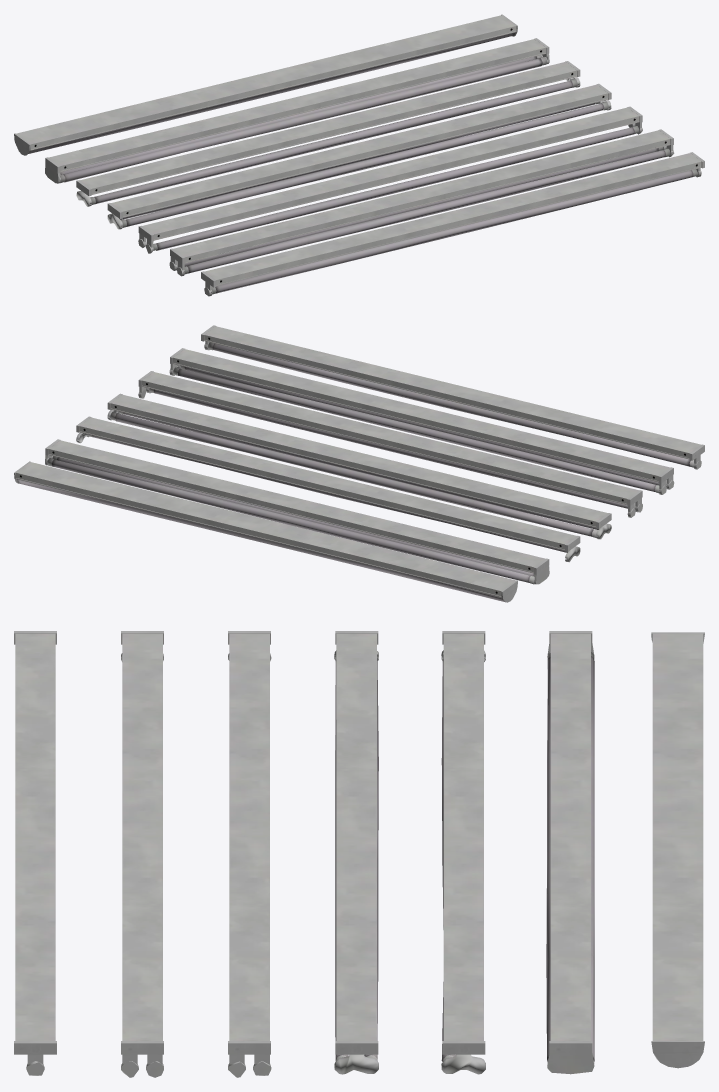
File: mounted_fluorescent_lights.glb
3 renders of one model, top to bottom at view 1: azimuth 30°, elevation 25°; view 2: azimuth 150°, elevation 25°; view 3: azimuth 270°, elevation 25°, orthographic. The views are drawn at different scales.
Parts seen in each view (by area): view 1: mounted_fluorescent_lights_b, mounted_fluorescent_lights_f, mounted_fluorescent_lights_d, mounted_fluorescent_lights_e, mounted_fluorescent_lights_c, mounted_fluorescent_lights_a, mounted_fluorescent_lights_g; view 2: mounted_fluorescent_lights_b, mounted_fluorescent_lights_f, mounted_fluorescent_lights_d, mounted_fluorescent_lights_a, mounted_fluorescent_lights_g, mounted_fluorescent_lights_c, mounted_fluorescent_lights_e; view 3: mounted_fluorescent_lights_g, mounted_fluorescent_lights_f, mounted_fluorescent_lights_d, mounted_fluorescent_lights_e, mounted_fluorescent_lights_b, mounted_fluorescent_lights_c, mounted_fluorescent_lights_a.
Part boxes in pixels (x1=…): mounted_fluorescent_lights_b: x1=169, y1=129, x2=674, y2=276; mounted_fluorescent_lights_f: x1=45, y1=38, x2=549, y2=183; mounted_fluorescent_lights_d: x1=107, y1=83, x2=611, y2=229; mounted_fluorescent_lights_e: x1=76, y1=61, x2=580, y2=206; mounted_fluorescent_lights_c: x1=138, y1=106, x2=642, y2=253; mounted_fluorescent_lights_a: x1=201, y1=152, x2=704, y2=296; mounted_fluorescent_lights_g: x1=14, y1=14, x2=517, y2=155; mounted_fluorescent_lights_b: x1=169, y1=348, x2=674, y2=494; mounted_fluorescent_lights_f: x1=45, y1=439, x2=549, y2=584; mounted_fluorescent_lights_d: x1=107, y1=393, x2=611, y2=539; mounted_fluorescent_lights_a: x1=201, y1=325, x2=704, y2=469; mounted_fluorescent_lights_g: x1=14, y1=461, x2=517, y2=602; mounted_fluorescent_lights_c: x1=138, y1=371, x2=642, y2=517; mounted_fluorescent_lights_e: x1=76, y1=416, x2=580, y2=562; mounted_fluorescent_lights_g: x1=651, y1=632, x2=704, y2=1068; mounted_fluorescent_lights_f: x1=546, y1=631, x2=594, y2=1074; mounted_fluorescent_lights_d: x1=334, y1=631, x2=378, y2=1074; mounted_fluorescent_lights_e: x1=441, y1=631, x2=485, y2=1074; mounted_fluorescent_lights_b: x1=121, y1=631, x2=163, y2=1077; mounted_fluorescent_lights_c: x1=228, y1=631, x2=271, y2=1077; mounted_fluorescent_lights_a: x1=14, y1=631, x2=56, y2=1075.
Size of the model in its own units: 0.9122 by 0.0354 by 0.6454.
Materials: 2 (2 with a texture image).
